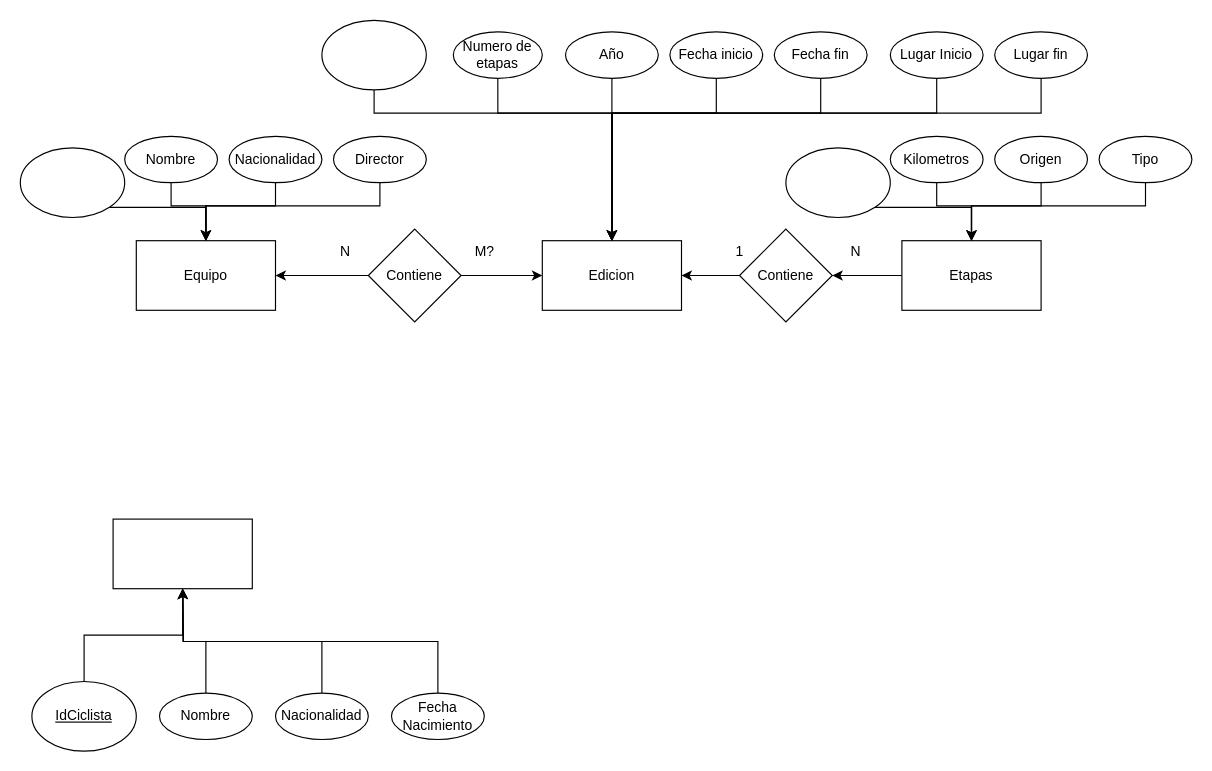
The diagram is 1212 pixels wide and 771 high, and some of its shapes have lost their labels. The shapes that lost their labels are listed below. From the top down, each one's box as (x1, y1, x2, y2) in pixels, then its label:
(321, 19, 426, 90): IdEdicion
(19, 147, 125, 217): IdEquipo
(785, 147, 890, 217): IdEtapa
(112, 518, 252, 589): Ciclista
